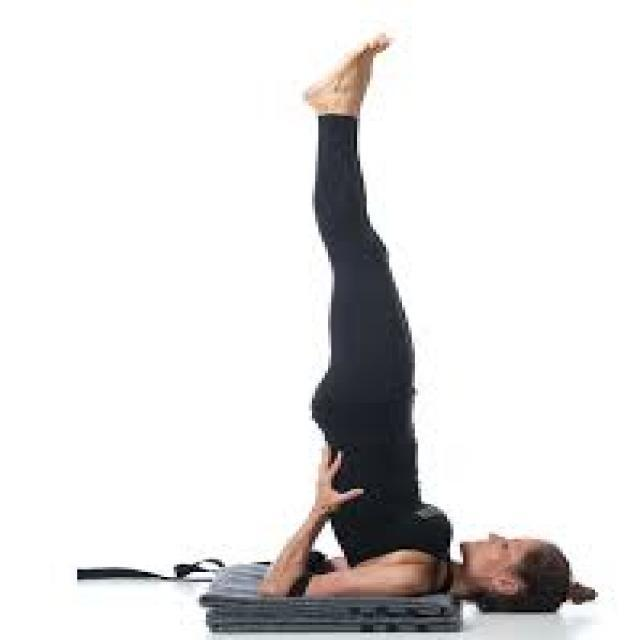yoga-pose shoulderstand: (243, 29, 582, 608)
